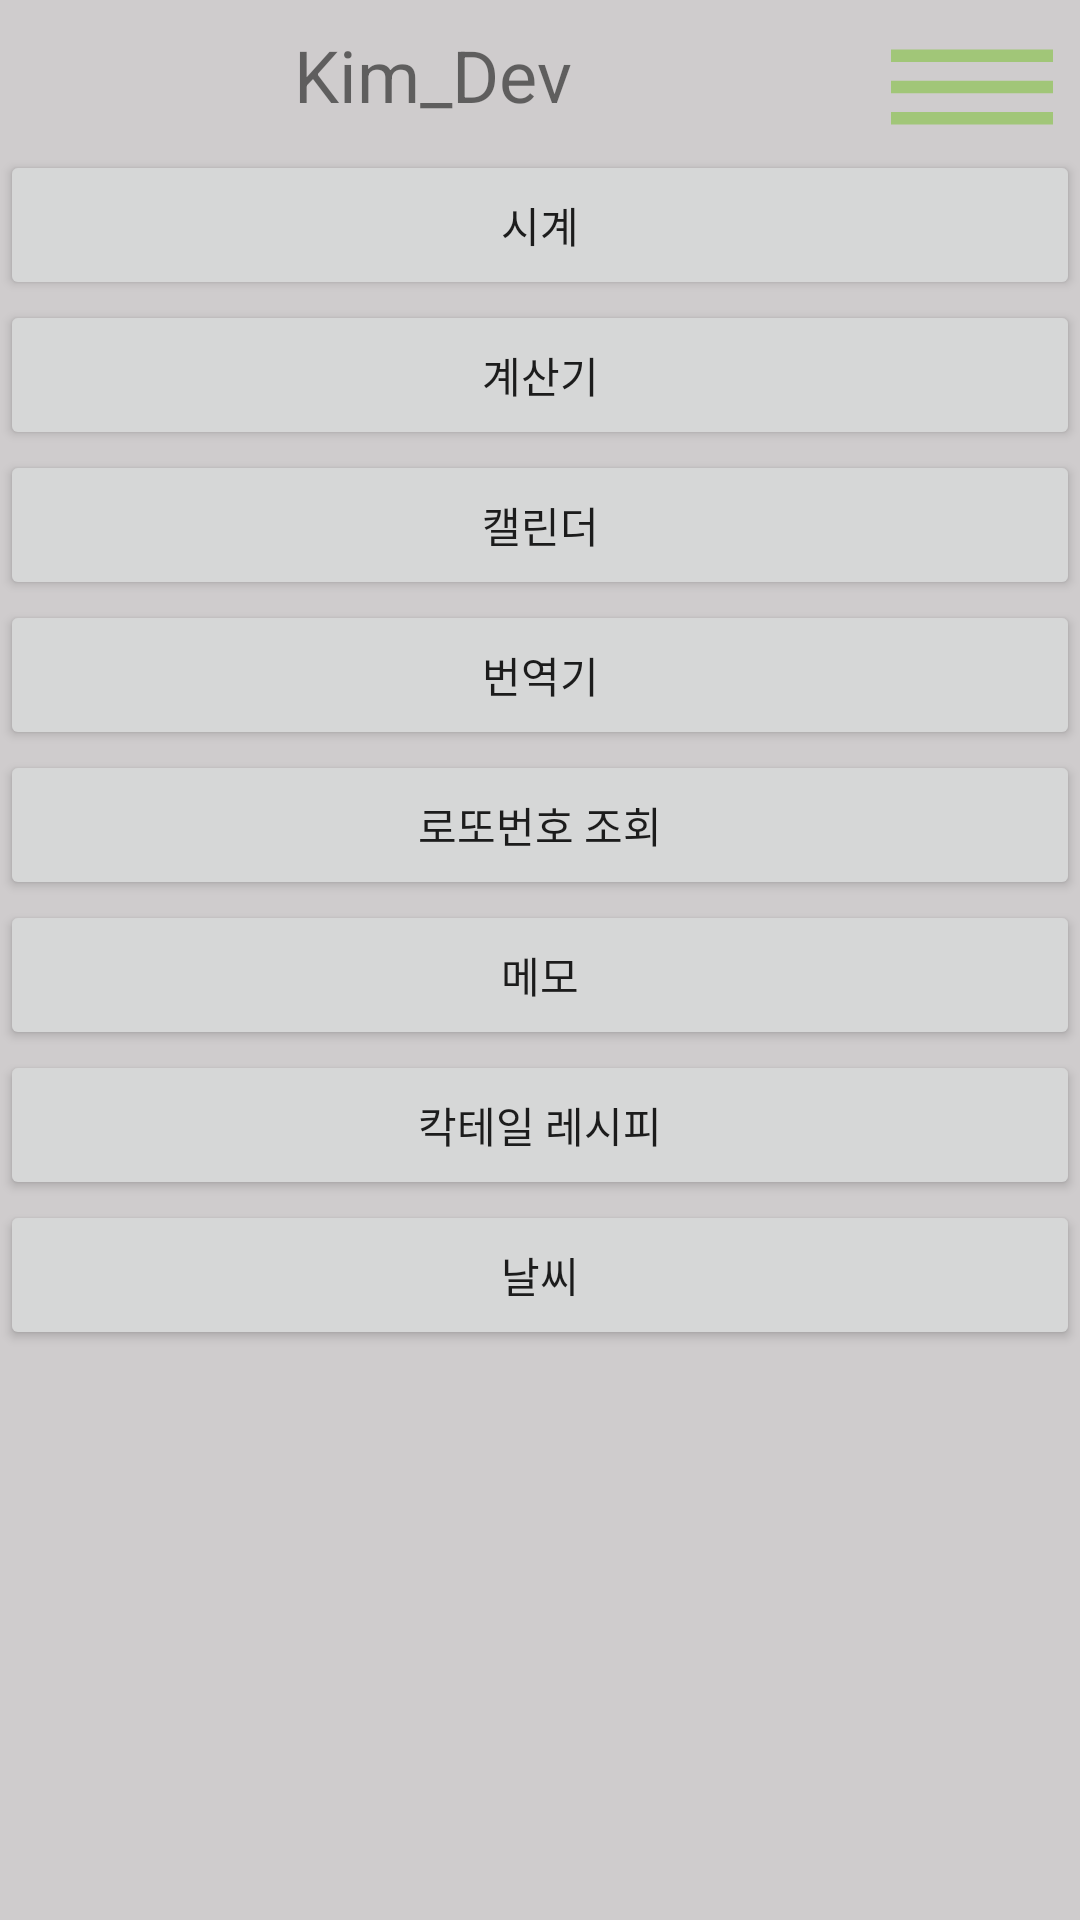

Screen size 1080w x 1920h. Icon name, then its center in pixels as (x=x, y=y):
menu: (x=972, y=87)
